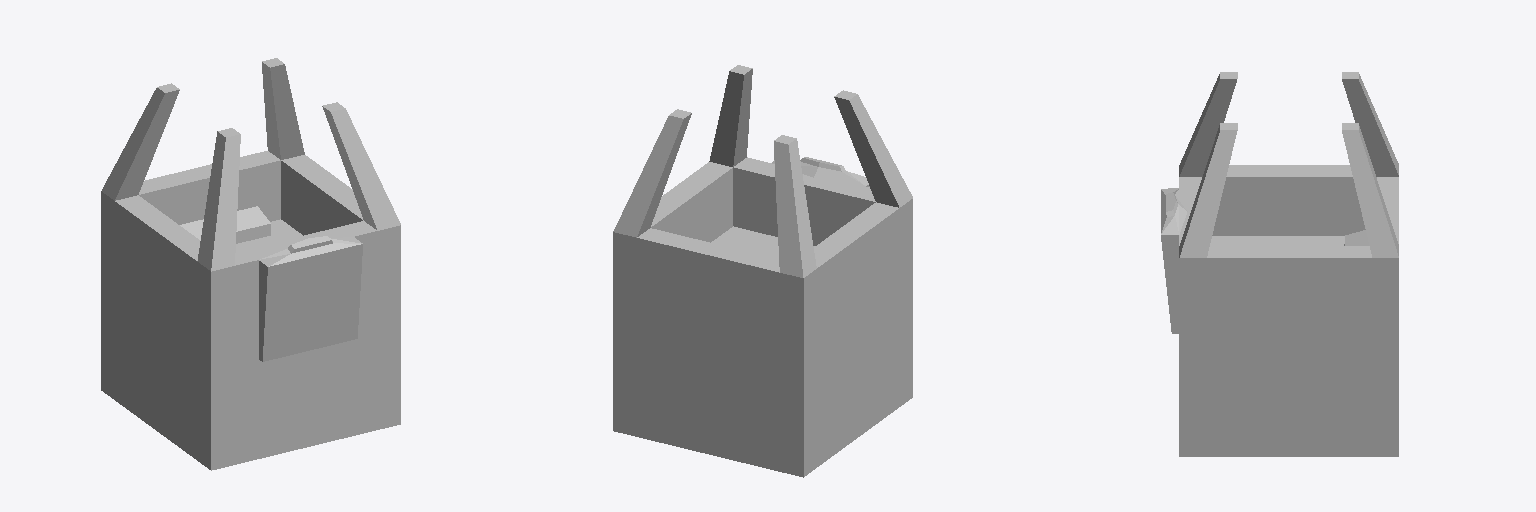
The model's file is sink.obj.
The picture shows the model from 3 angles: view 1: azimuth 30°, elevation 25°; view 2: azimuth 150°, elevation 25°; view 3: azimuth 270°, elevation 25°; orthographic projection.
Visible parts, largest first — view 1: Cube; view 2: Cube; view 3: Cube.
Part boxes in pixels (bbox=[...]): Cube: bbox=[101, 58, 400, 470]; Cube: bbox=[613, 65, 912, 477]; Cube: bbox=[1161, 72, 1398, 456].
Size of the model in its own units: 2 by 3.11 by 2.17.